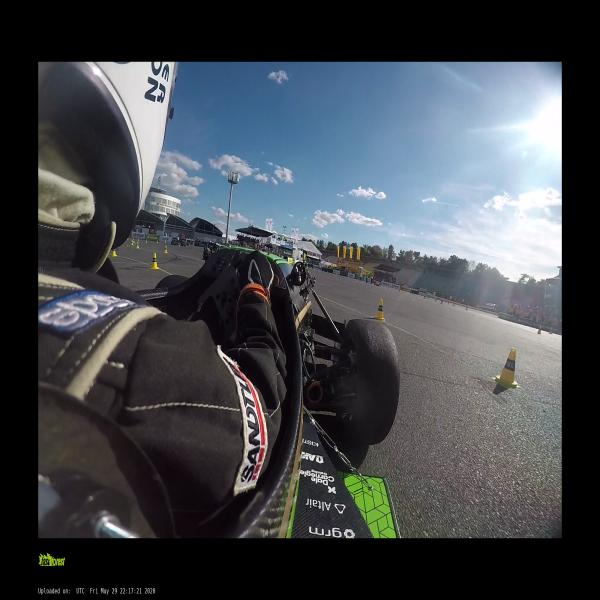yellow_cone: (492, 349, 520, 386), (375, 298, 385, 321), (149, 252, 159, 269), (163, 246, 167, 254), (537, 328, 541, 334), (130, 240, 134, 245), (112, 250, 116, 255), (136, 242, 139, 248), (465, 306, 468, 310), (146, 240, 148, 244), (156, 240, 158, 244)
